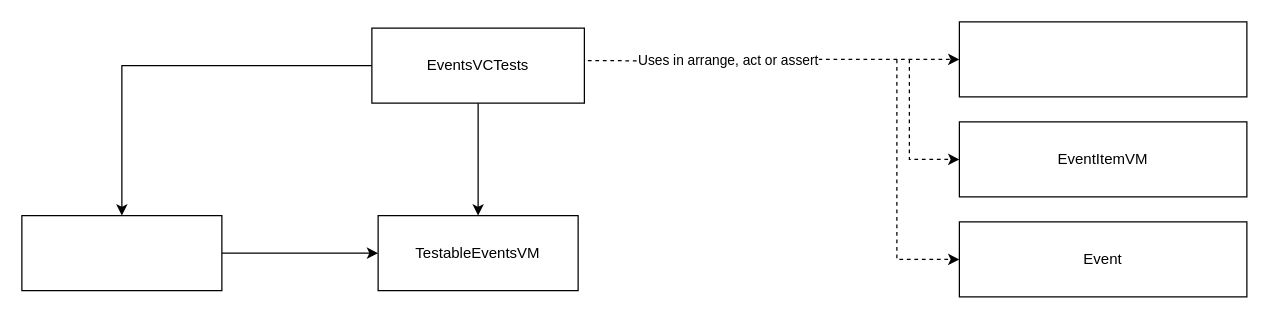
This 1269x319 diagram has some shape labels left out. Here are the shapes that lost their labels. From the top down, the centre of each, then its label:
At pixel 1102 59: "EventItemTC".
At pixel 121 252: "TestableEventsVC".
